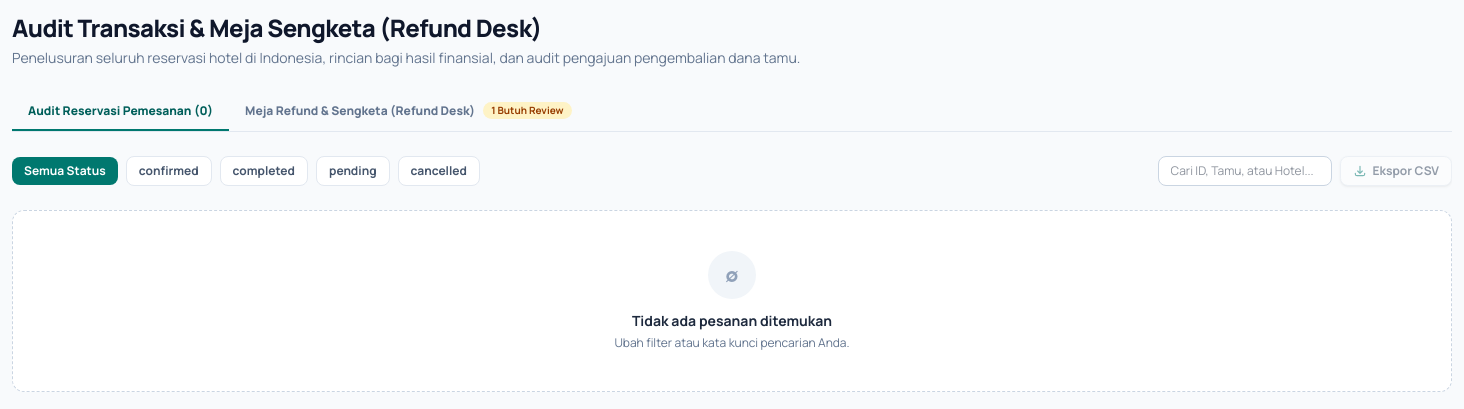
Test: OrderAudit.jsx Component Tests (Tab Refund, Setujui/Tolak Refund & Bukti Mitra) › berpindah ke tab refund, menampilkan sanggahan mitra dan tautan bukti
Expected: the heading "Audit Transaksi & Meja Sengketa (Refund Desk)" is shown, left=12, top=11, right=542, bottom=44
# Klik tab Pengajuan Refund
Click the button "Meja Refund & Sengketa (Refund Desk) 1 Butuh Review" at (408, 112), box left=229, top=92, right=588, bottom=131
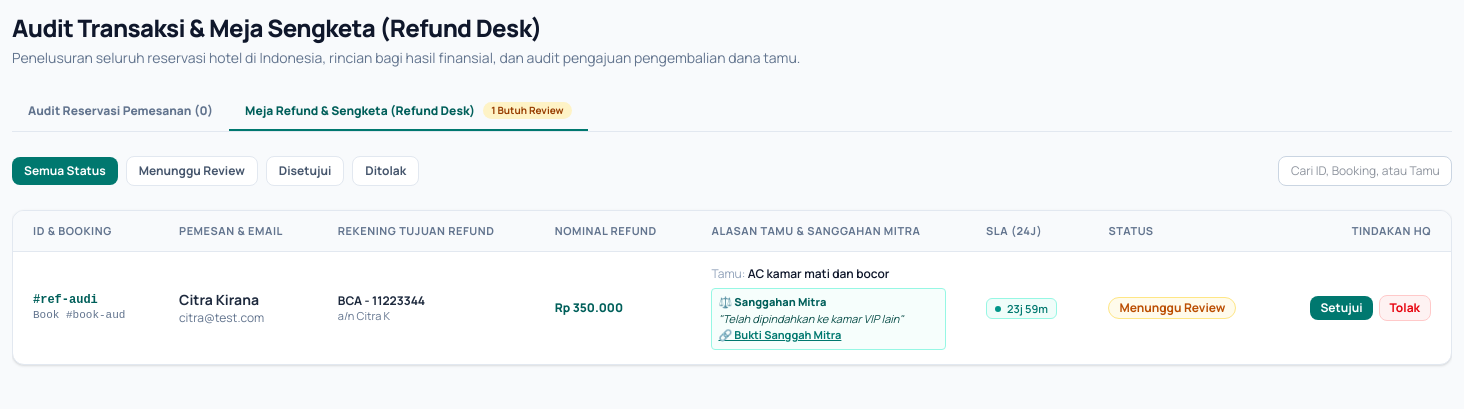
Expected: the text "Citra Kirana" is shown, left=179, top=290, right=259, bottom=309
Expected: the text "⚖️ Sanggahan Mitra" is shown, left=718, top=295, right=826, bottom=310
Expected: the text "\"Telah dipindahkan ke kamar VIP lain\"" is shown, left=718, top=311, right=904, bottom=326
